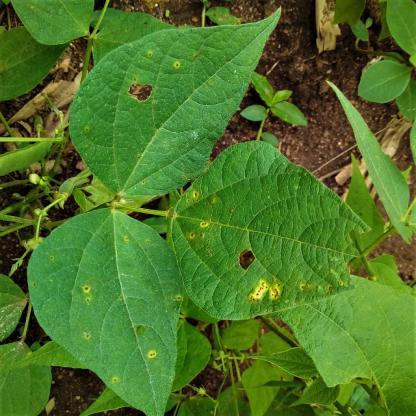Beans_Rust: (65, 4, 279, 191), (178, 150, 369, 310), (27, 211, 175, 416)
